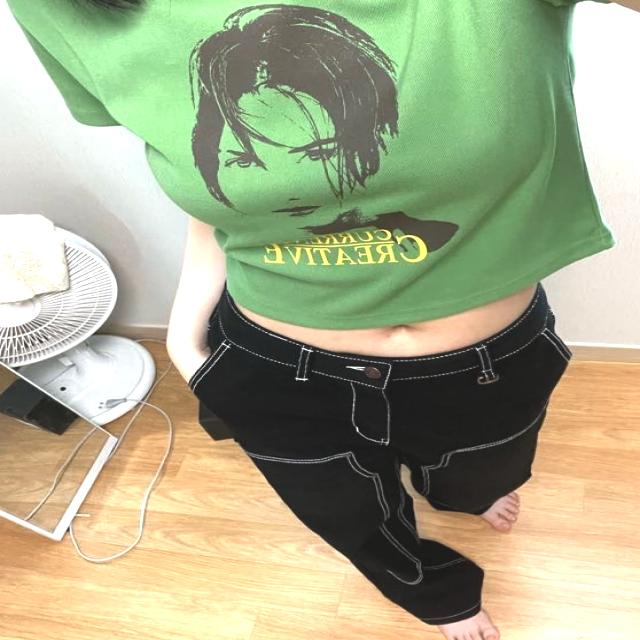denimpants: (187, 276, 570, 628)
shortsleeve: (15, 0, 621, 335)
